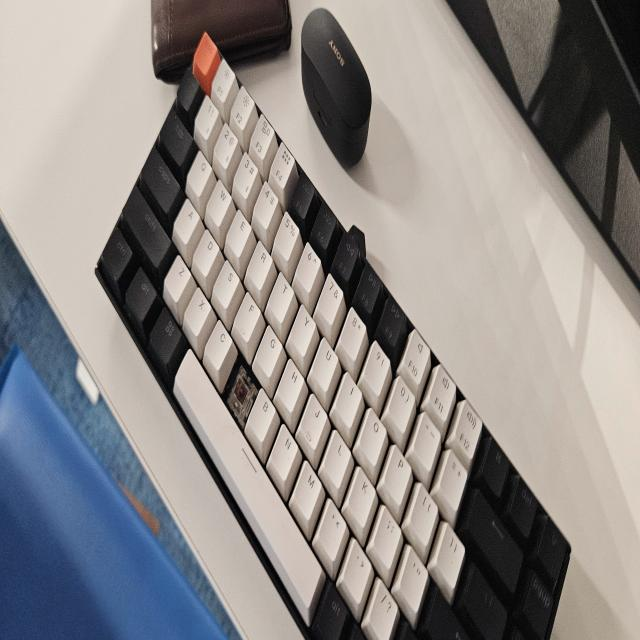C: (229, 369, 247, 404)
